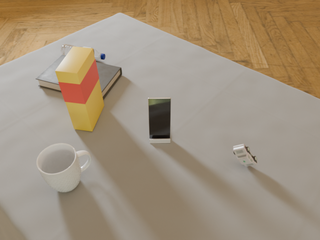book: (36, 54, 122, 99)
bottle: (61, 44, 105, 61)
box: (55, 47, 104, 131)
cup: (37, 143, 92, 192)
phone: (148, 98, 171, 138)
toy_car: (233, 144, 258, 166)
